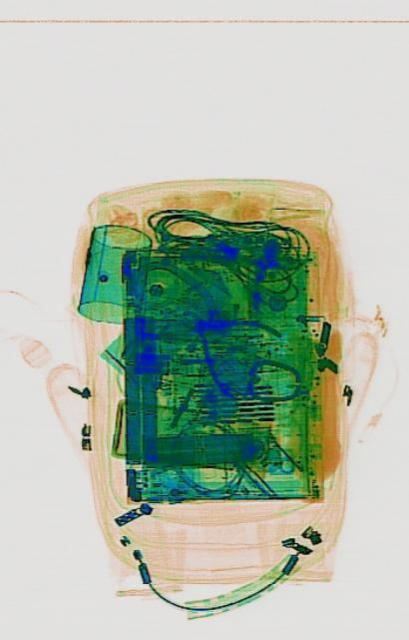Pliers: (166, 272, 281, 414)
